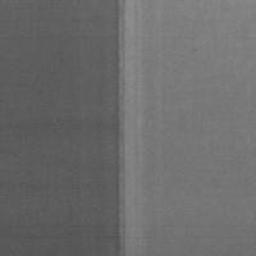Welding line: (116, 0, 125, 255)
